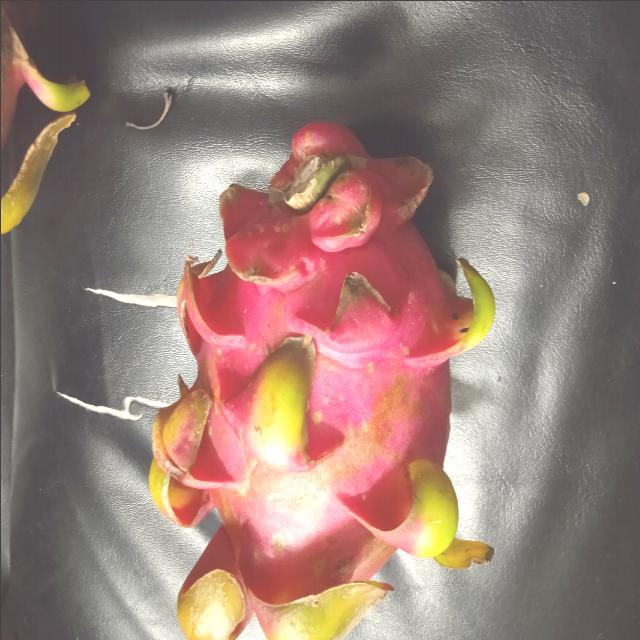do: (143, 118, 496, 639)
